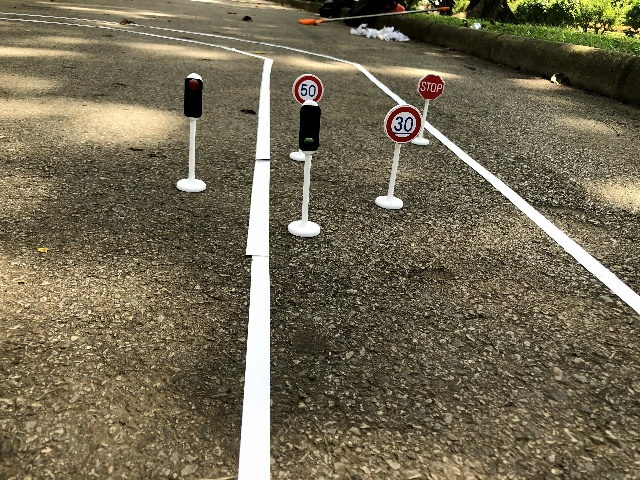Green Traffic Light: (296, 97, 325, 160)
Red Traffic Light: (180, 69, 207, 124)
Speed Limit 30: (380, 100, 427, 147)
Speed Limit 50: (290, 69, 329, 109)
Stop Sign: (412, 68, 450, 108)
